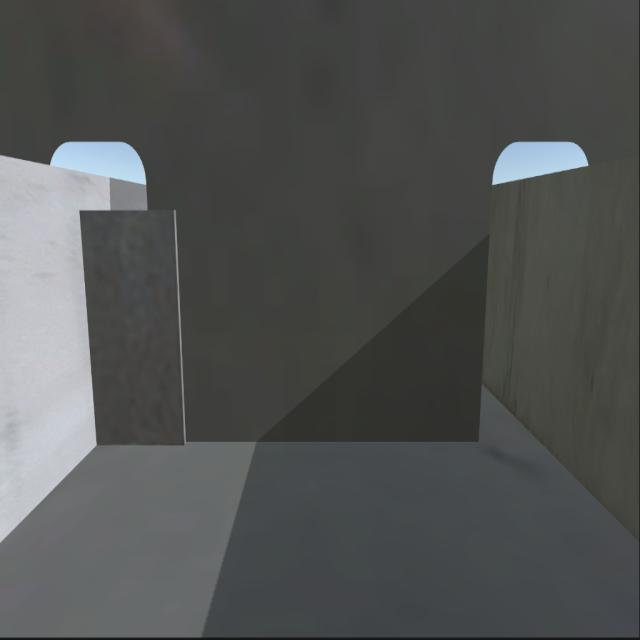fillet_yong_jeop_jang: (92, 429, 483, 446)
longi_yong_jeop_jang: (86, 217, 106, 446)
plate_CP01: (84, 208, 186, 430)
